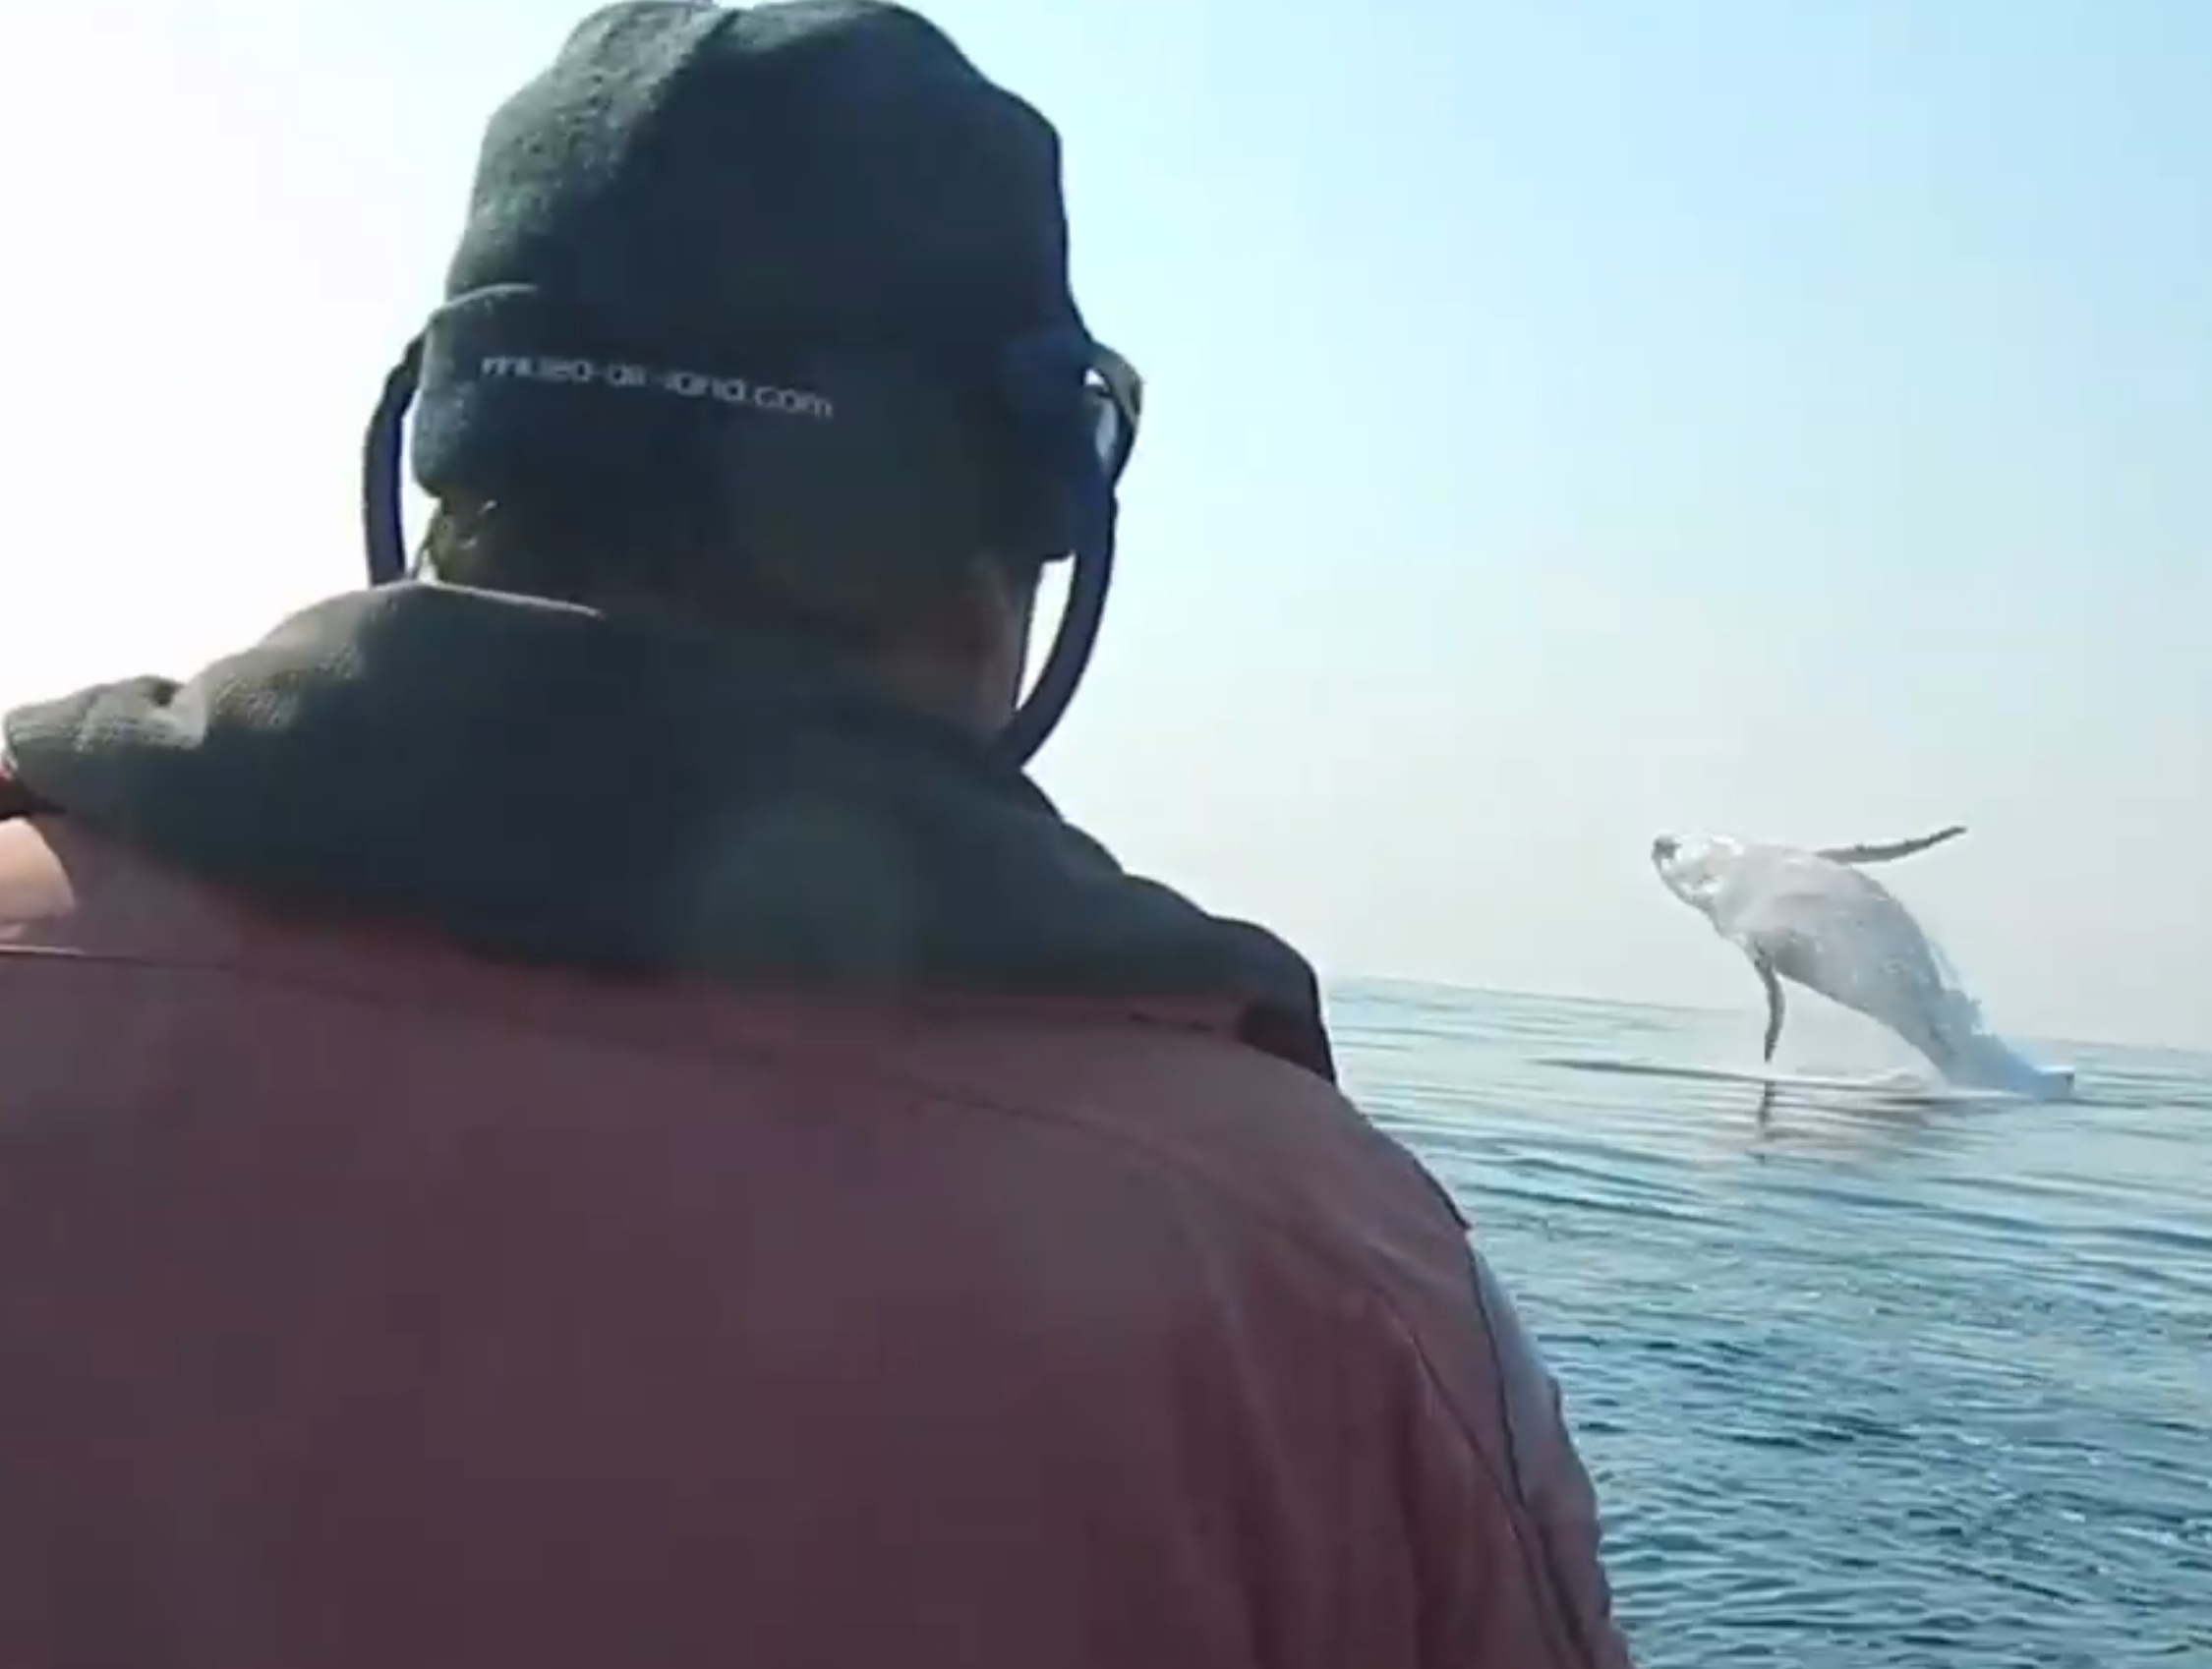humpback: (1646, 820, 2081, 1106)
